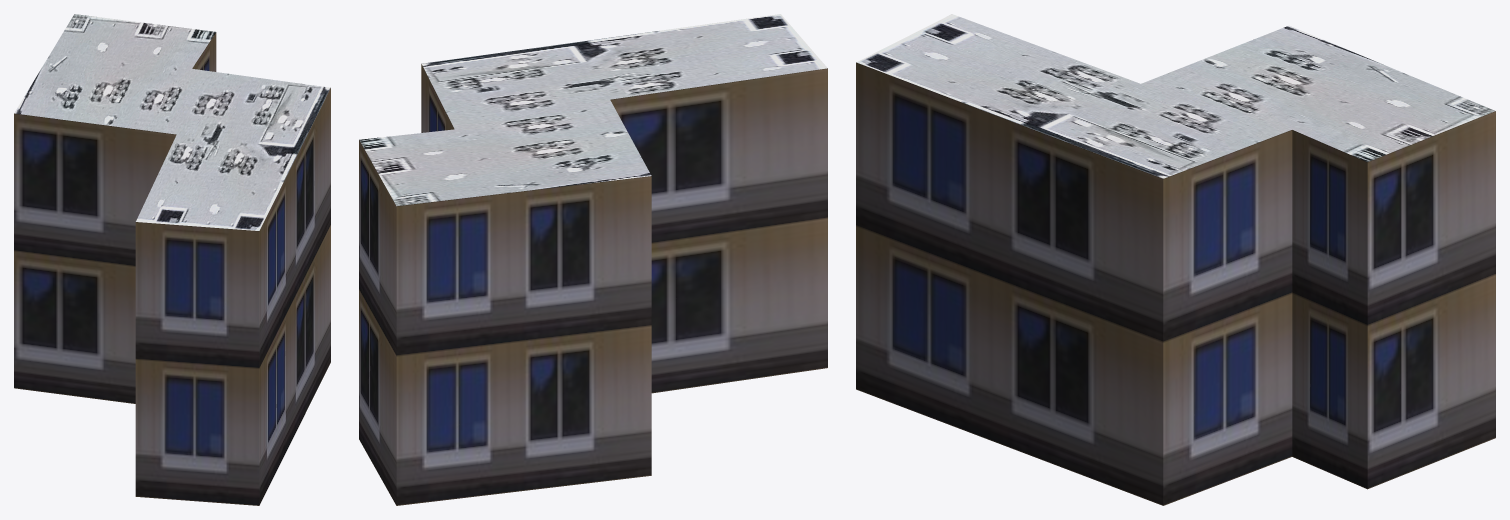
File: ResTex__2319.fbx
The picture shows the model from 3 angles, left to right: view 1: azimuth 30°, elevation 25°; view 2: azimuth 150°, elevation 25°; view 3: azimuth 270°, elevation 25°; orthographic projection. The views are drawn at different scales.
Parts seen in each view (by area): view 1: CityEngineMaterial_5_m, CityEngineMaterial_4_m; view 2: CityEngineMaterial_5_m, CityEngineMaterial_4_m; view 3: CityEngineMaterial_5_m, CityEngineMaterial_4_m.
Part boxes in pixels (x1,y1,x2,y2): CityEngineMaterial_5_m: (14,32,330,505); CityEngineMaterial_4_m: (14,14,330,230); CityEngineMaterial_5_m: (359,64,827,505); CityEngineMaterial_4_m: (359,14,827,206); CityEngineMaterial_5_m: (856,62,1495,505); CityEngineMaterial_4_m: (856,14,1495,178).
Bounding box in the file's own units: 6.49 × 6 × 10.63.
2 materials, 2 textured.
